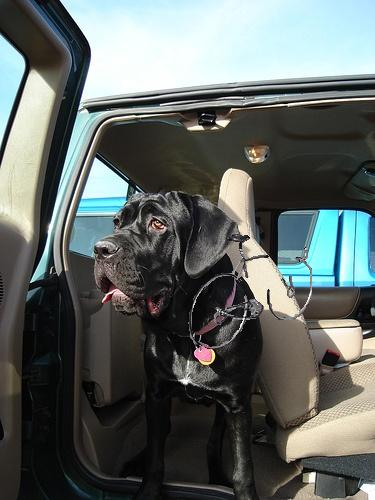tampered: (189, 236, 312, 349)
